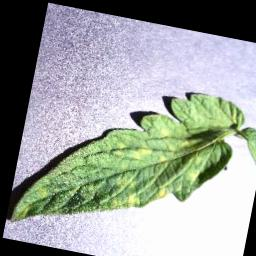Leaf_Mold: (108, 171, 144, 212), (132, 142, 153, 164), (154, 185, 171, 201)
